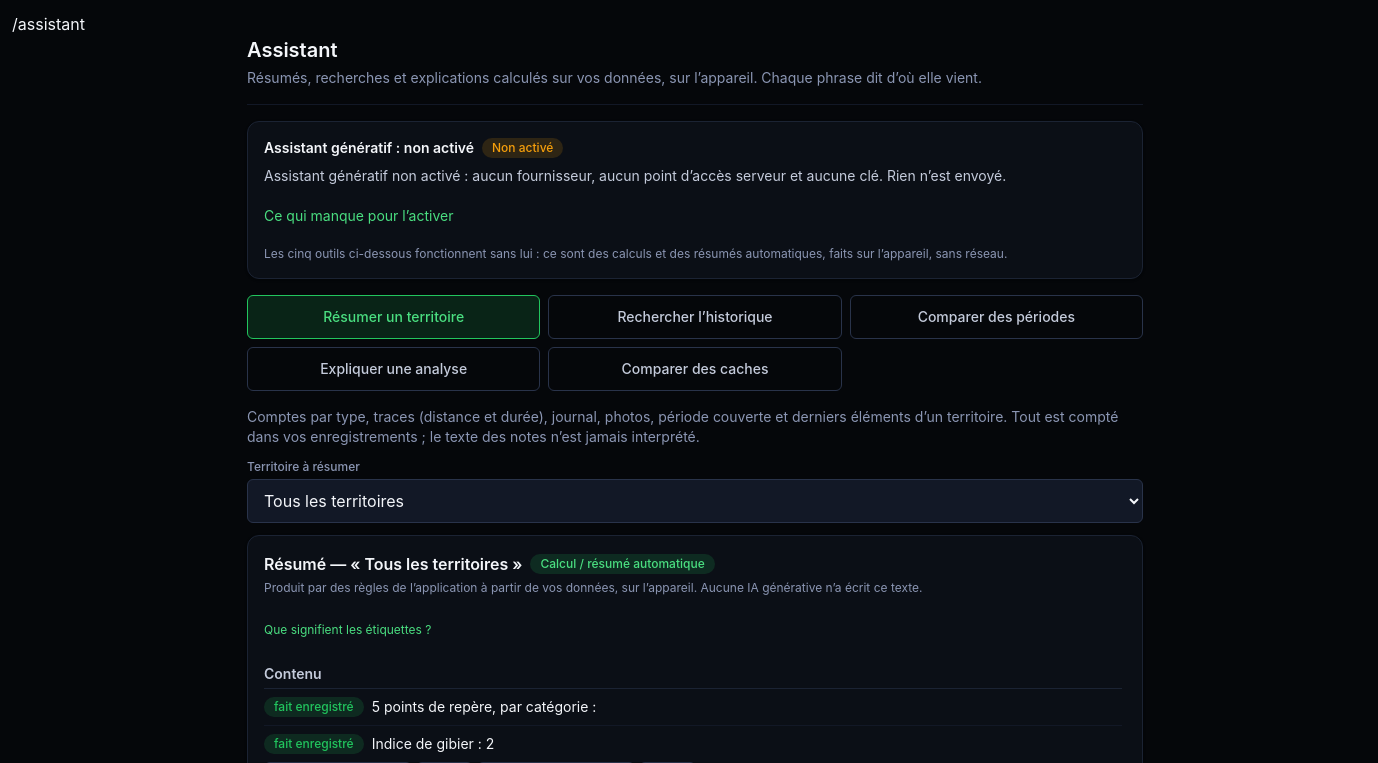
Scenario: AssistantPage — honnête sur ce qui existe › affiche « Assistant génératif : non activé » et ce qui manque
This screenshot has width=1378, height=763.
Expected: the heading "Assistant génératif : non activé" is shown, [264,138,474,158]
Expected: the text "Rien n’est envoyé" is shown, [264,167,1006,184]
Click the heading "Ce qui manque pour l’activer" at (359, 216), box [264,207,453,224]
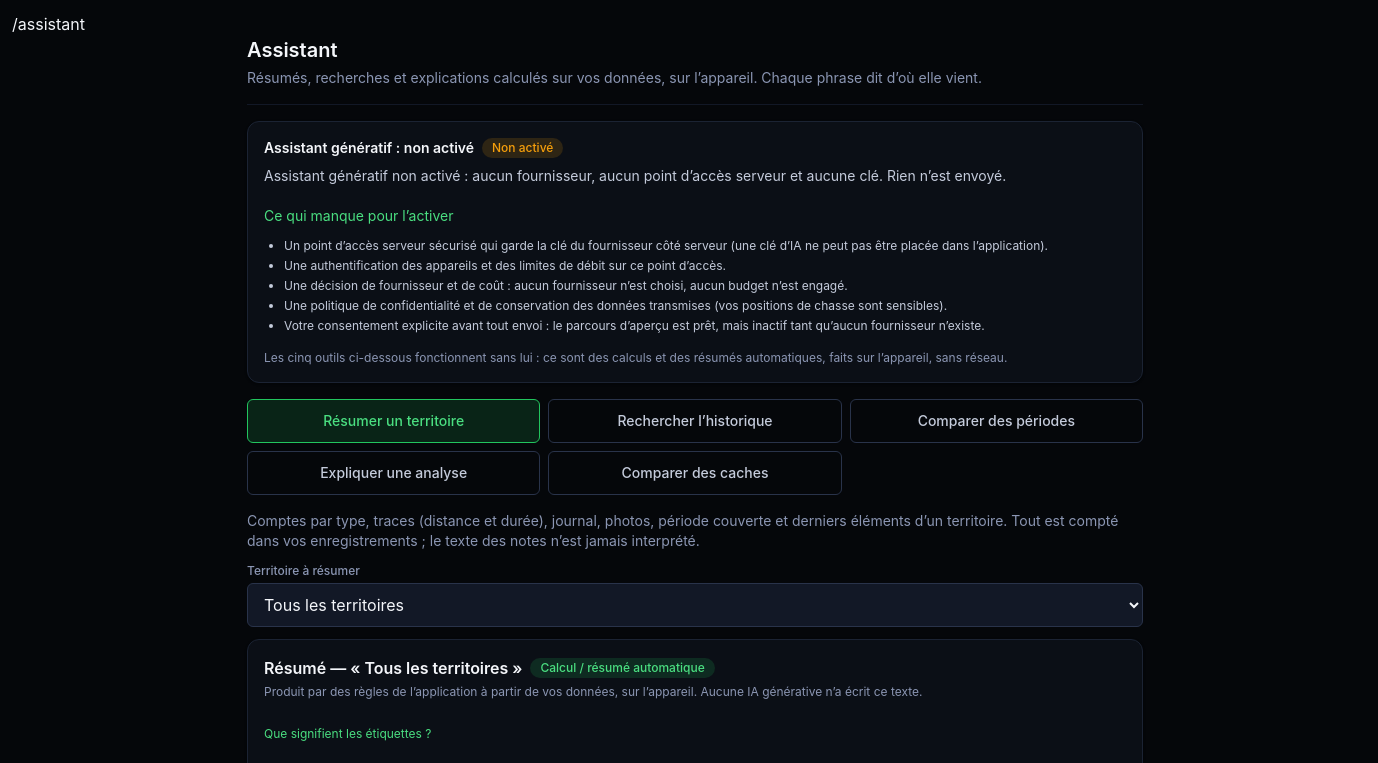
Expected: the list item "Un point d’accès serveur sécurisé qui garde la clé du fournisseur côté serveur (une clé d’IA ne peut pas être placée dan" is shown, [284,238,1048,253]
Expected: the list item "Une authentification des appareils et des limites de débit sur ce point d’accès." is shown, [284,258,726,273]
Expected: the list item "Une décision de fournisseur et de coût : aucun fournisseur n’est choisi, aucun budget n’est engagé." is shown, [284,278,848,293]
